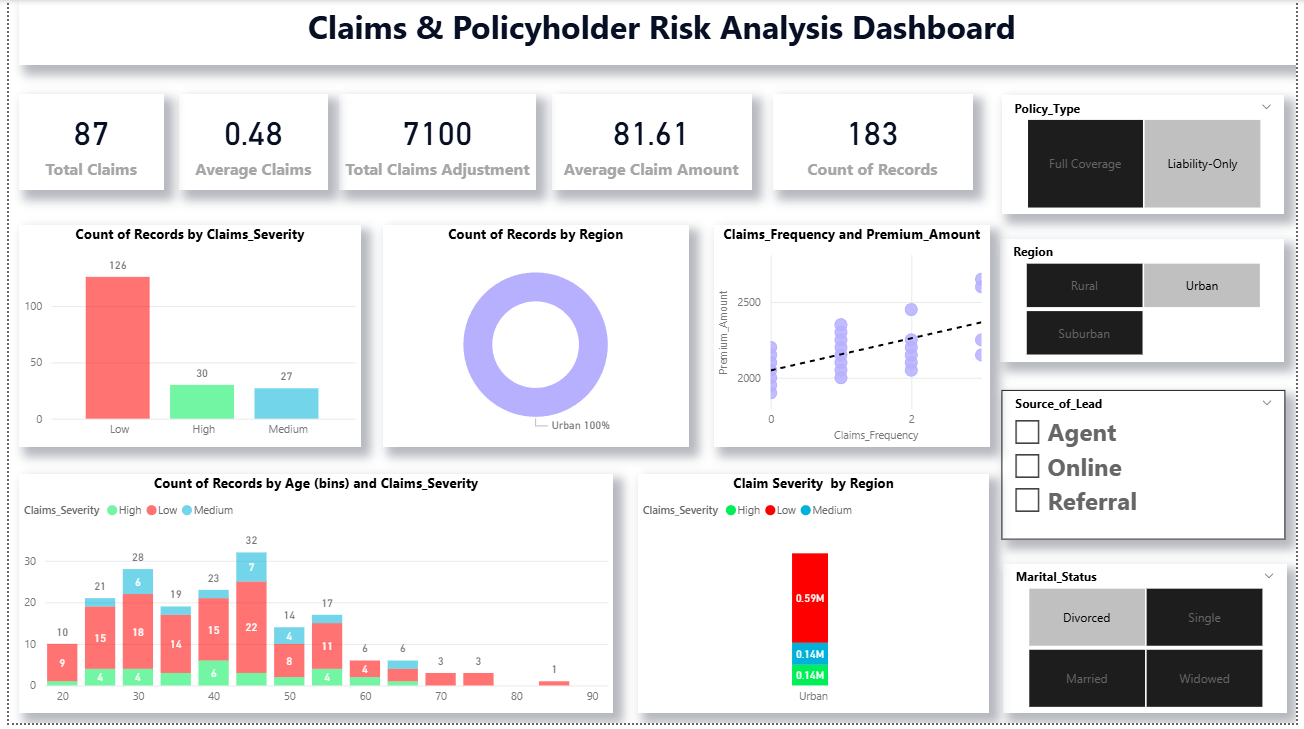

The dashboard page shown, as its layout file describes it:
{"tool":"powerbi","page":{"name":"Claims & Policyholder Risk Ananlysis Dashboard","canvas":[1280,720],"ordinal":0},"visuals":[{"type":"textbox","box":[9.6,0,1270.7,64.5],"z":0},{"type":"card","fields":{"Values":["Sum(synthetic_insurance_data.Claims_Frequency)"]},"box":[9.6,93.3,144.1,96.1],"z":1000},{"type":"card","fields":{"Values":["Avg(synthetic_insurance_data.Claims_Frequency)"]},"box":[168.8,93.3,148.2,96.1],"z":2000},{"type":"card","fields":{"Values":["Sum(synthetic_insurance_data.Claims_Adjustment)"]},"box":[328,93.3,196.2,96.1],"z":3000},{"type":"columnChart","fields":{"Category":["synthetic_insurance_data.Claims_Severity"],"Y":["Count(synthetic_insurance_data.Index)"]},"box":[9.6,223.7,340.3,220.9],"z":4000},{"type":"columnChart","fields":{"Y":["Count(synthetic_insurance_data.Index)"],"Category":["synthetic_insurance_data.Age (bins)"],"Series":["synthetic_insurance_data.Claims_Severity"]},"box":[9.6,472,591.4,238.8],"z":5000},{"type":"donutChart","fields":{"Y":["Count(synthetic_insurance_data.Index)"],"Category":["synthetic_insurance_data.Region"]},"box":[371.9,223.7,304.6,220.9],"z":6000},{"type":"ribbonChart","title":"Claim Severity  by Region ","fields":{"Category":["synthetic_insurance_data.Region"],"Y":["Sum(synthetic_insurance_data.Index)"],"Series":["synthetic_insurance_data.Claims_Severity"]},"box":[625.7,472,349.9,238.8],"z":7000},{"type":"card","fields":{"Values":["synthetic_insurance_data.Average Claim Amount"]},"box":[539.3,93.3,199,96.1],"z":8000},{"type":"scatterChart","fields":{"Y":["synthetic_insurance_data.Premium_Amount"],"X":["synthetic_insurance_data.Claims_Frequency"]},"box":[701.2,223.7,274.4,220.9],"z":9000},{"type":"card","fields":{"Values":["Count(synthetic_insurance_data.Index)"]},"box":[760.2,93.3,199,96.1],"z":10000},{"type":"slicer","fields":{"Values":["synthetic_insurance_data.Policy_Type"]},"box":[988,94.2,281.3,118.6],"z":11000},{"type":"slicer","fields":{"Values":["synthetic_insurance_data.Region"]},"box":[986.8,237.2,282.5,122.3],"z":12000},{"type":"slicer","fields":{"Values":["synthetic_insurance_data.Marital_Status"]},"box":[989.3,561.3,282.5,149.2],"z":13000},{"type":"slicer","fields":{"Values":["synthetic_insurance_data.Source_of_Lead"]},"box":[988,387.6,282.5,149.2],"z":14000}]}

Visuals, with their boxes in screenshot pixels (x1, y1, x2, y2), scaled from the page's 1280x720 canvas onto the 1304x729 screenshot:
textbox: x1=10 y1=0 x2=1303 y2=65
card - Sum(synthetic_insurance_data.Claims_Frequency): x1=10 y1=94 x2=157 y2=192
card - Avg(synthetic_insurance_data.Claims_Frequency): x1=172 y1=94 x2=323 y2=192
card - Sum(synthetic_insurance_data.Claims_Adjustment): x1=334 y1=94 x2=534 y2=192
columnChart - synthetic_insurance_data.Claims_Severity x Count(synthetic_insurance_data.Index): x1=10 y1=226 x2=356 y2=450
columnChart - Count(synthetic_insurance_data.Index) x synthetic_insurance_data.Age (bins): x1=10 y1=478 x2=612 y2=720
donutChart - Count(synthetic_insurance_data.Index) x synthetic_insurance_data.Region: x1=379 y1=226 x2=689 y2=450
"Claim Severity  by Region " ribbonChart: x1=637 y1=478 x2=994 y2=720
card - synthetic_insurance_data.Average Claim Amount: x1=549 y1=94 x2=752 y2=192
scatterChart - synthetic_insurance_data.Premium_Amount x synthetic_insurance_data.Claims_Frequency: x1=714 y1=226 x2=994 y2=450
card - Count(synthetic_insurance_data.Index): x1=774 y1=94 x2=977 y2=192
slicer - synthetic_insurance_data.Policy_Type: x1=1007 y1=95 x2=1293 y2=215
slicer - synthetic_insurance_data.Region: x1=1005 y1=240 x2=1293 y2=364
slicer - synthetic_insurance_data.Marital_Status: x1=1008 y1=568 x2=1296 y2=719
slicer - synthetic_insurance_data.Source_of_Lead: x1=1007 y1=392 x2=1294 y2=544
